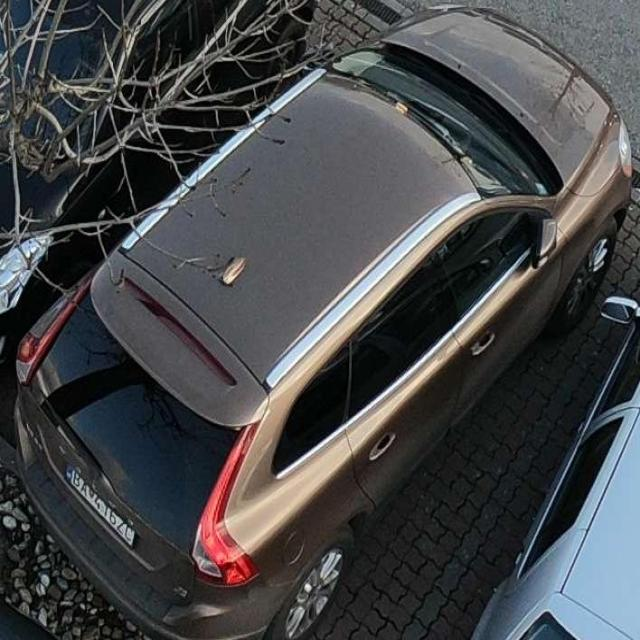Car: (0, 10, 640, 640)
